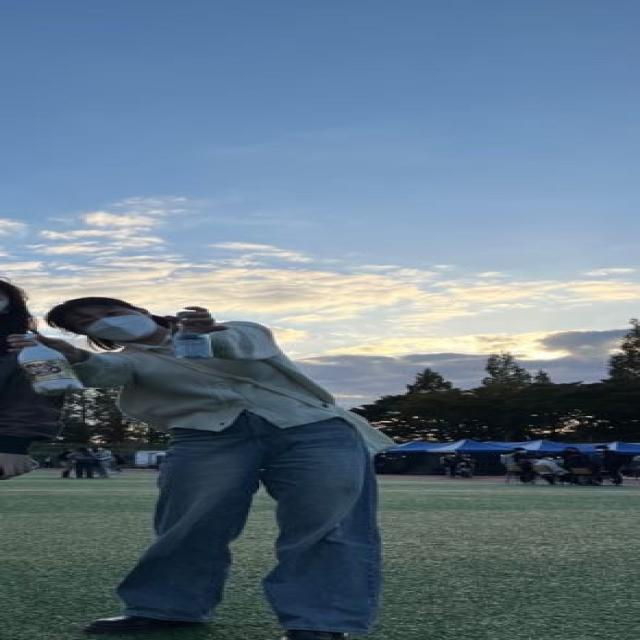cardigan: (68, 322, 348, 430)
denimpants: (118, 409, 384, 638)
